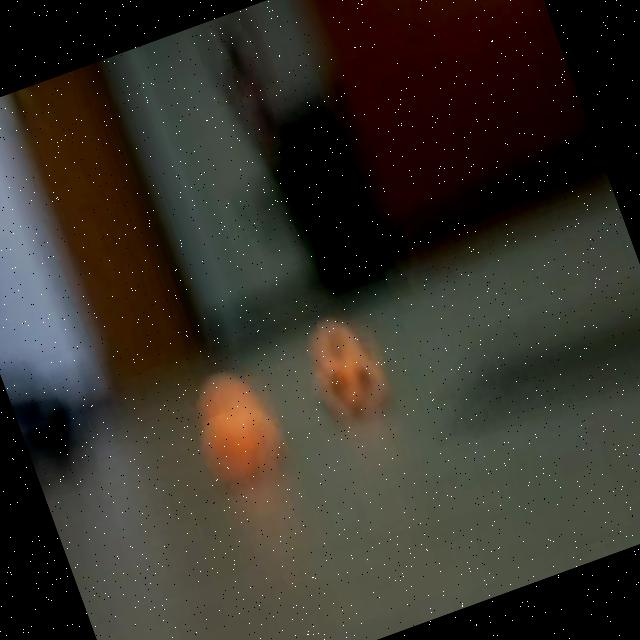ping-pong-ball: (288, 298, 402, 429), (177, 361, 286, 485)
